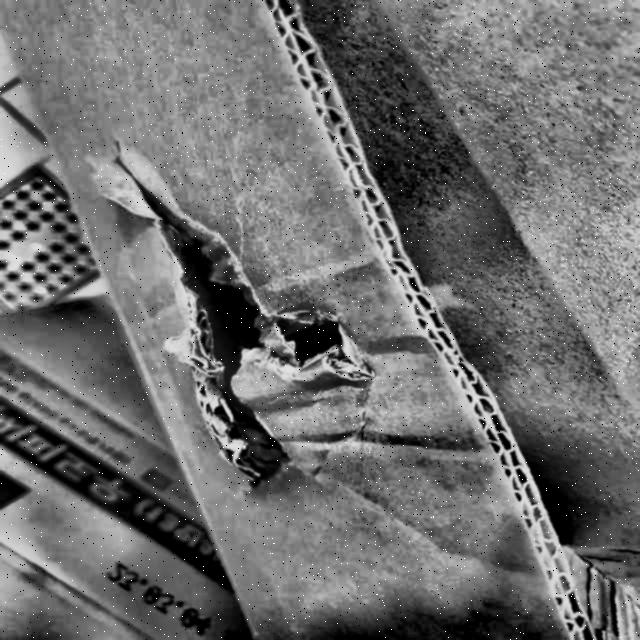box: (13, 0, 640, 640)
hole: (167, 201, 360, 469)
